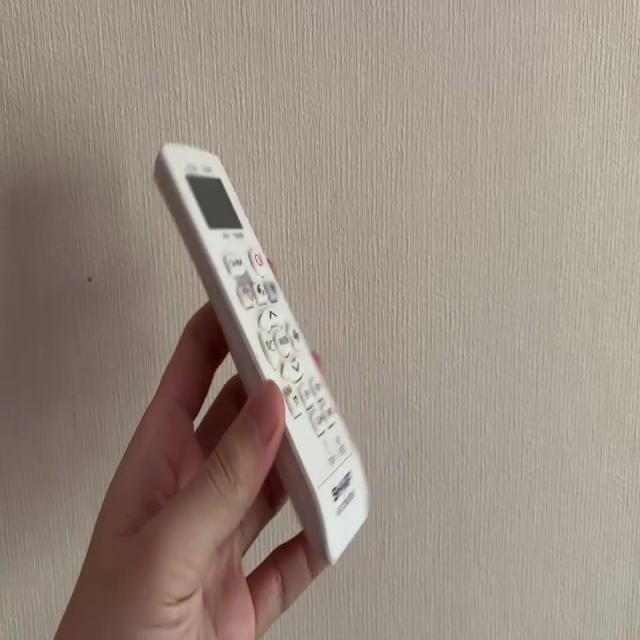remote: (153, 141, 371, 559)
